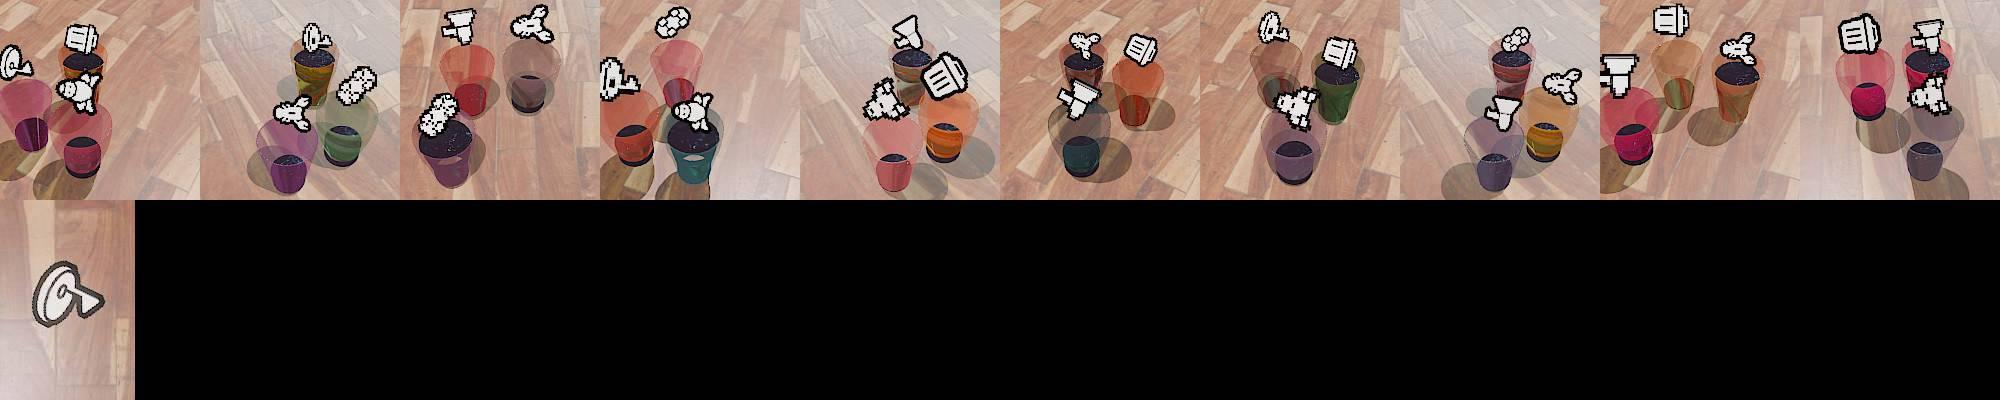icon: (32, 257, 111, 325), (922, 50, 968, 102), (864, 75, 911, 122), (1273, 83, 1319, 130), (55, 70, 102, 115), (1057, 79, 1105, 122), (598, 56, 642, 101), (1837, 13, 1881, 56), (418, 90, 459, 136), (1541, 66, 1584, 108), (509, 3, 554, 43), (335, 65, 380, 106), (1599, 54, 1640, 98), (1906, 76, 1952, 116), (671, 92, 714, 131), (272, 96, 314, 132), (1483, 93, 1522, 132), (440, 8, 477, 47), (0, 45, 36, 83), (1320, 36, 1360, 70), (1652, 4, 1690, 38), (1911, 19, 1946, 55), (61, 23, 99, 56), (1718, 31, 1756, 64), (890, 14, 925, 50), (1124, 32, 1158, 68), (654, 5, 691, 38), (1066, 31, 1101, 62), (1258, 10, 1290, 45), (1501, 24, 1532, 54), (300, 22, 323, 52)
